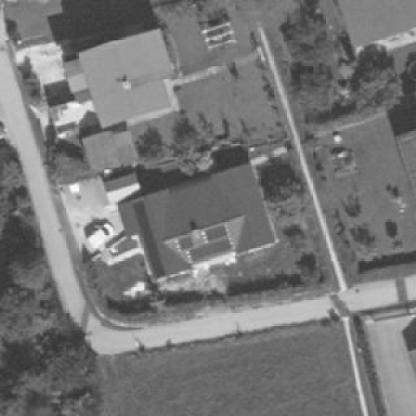solar-pv-panel: (190, 239, 232, 262), (204, 225, 227, 243), (177, 236, 194, 250)
